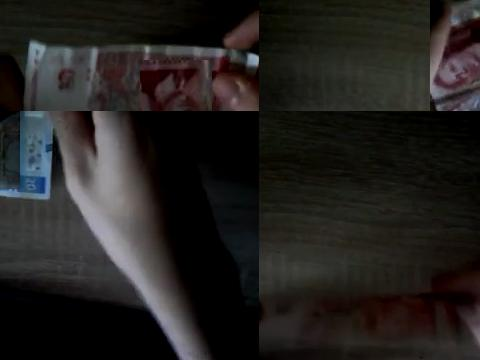5leva: (140, 60, 210, 111)
